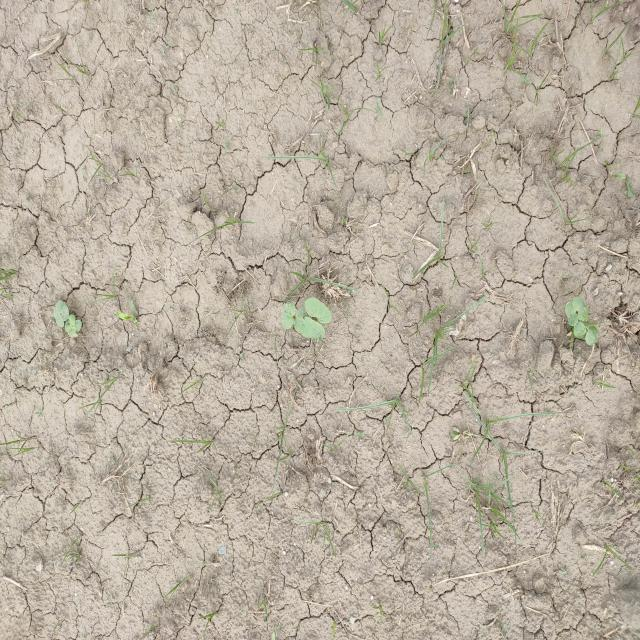seedling_s2: (305, 297, 331, 324), (302, 317, 325, 341), (572, 297, 588, 323), (281, 302, 295, 329), (584, 321, 599, 346), (565, 301, 578, 326), (294, 307, 305, 333), (56, 300, 69, 321), (69, 320, 82, 338), (574, 321, 587, 339), (53, 308, 64, 328), (64, 314, 76, 332)
